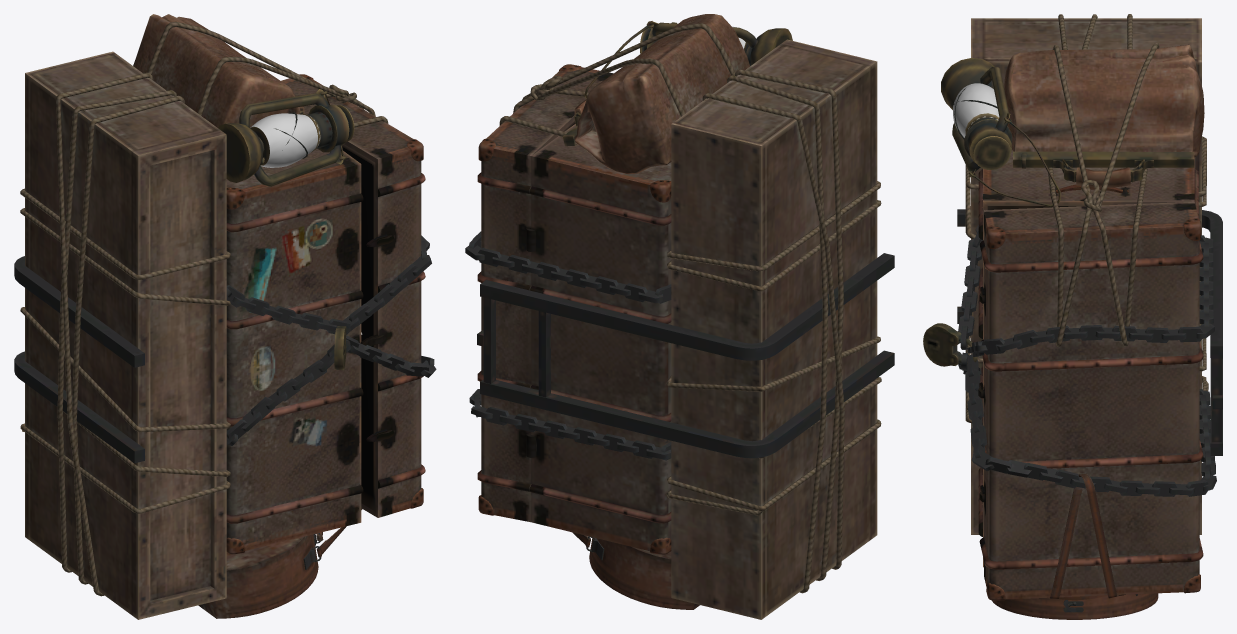
Rendered from Suitcases.fbx.
3 renders of one model, left to right at view 1: azimuth 30°, elevation 25°; view 2: azimuth 150°, elevation 25°; view 3: azimuth 270°, elevation 25°, orthographic. The views are drawn at different scales.
Visible parts, largest first — view 1: set_0_group_0, set_0_group_5; view 2: set_0_group_0; view 3: set_0_group_0, set_0_group_5.
Boxes of the visible parts, x1,y1,x2,y2 form: set_0_group_0: (14, 14, 436, 619); set_0_group_5: (250, 113, 320, 167); set_0_group_0: (465, 14, 894, 619); set_0_group_0: (923, 14, 1222, 619); set_0_group_5: (953, 83, 999, 137).
Size of the model in its own units: 88.77 by 140 by 69.29.
